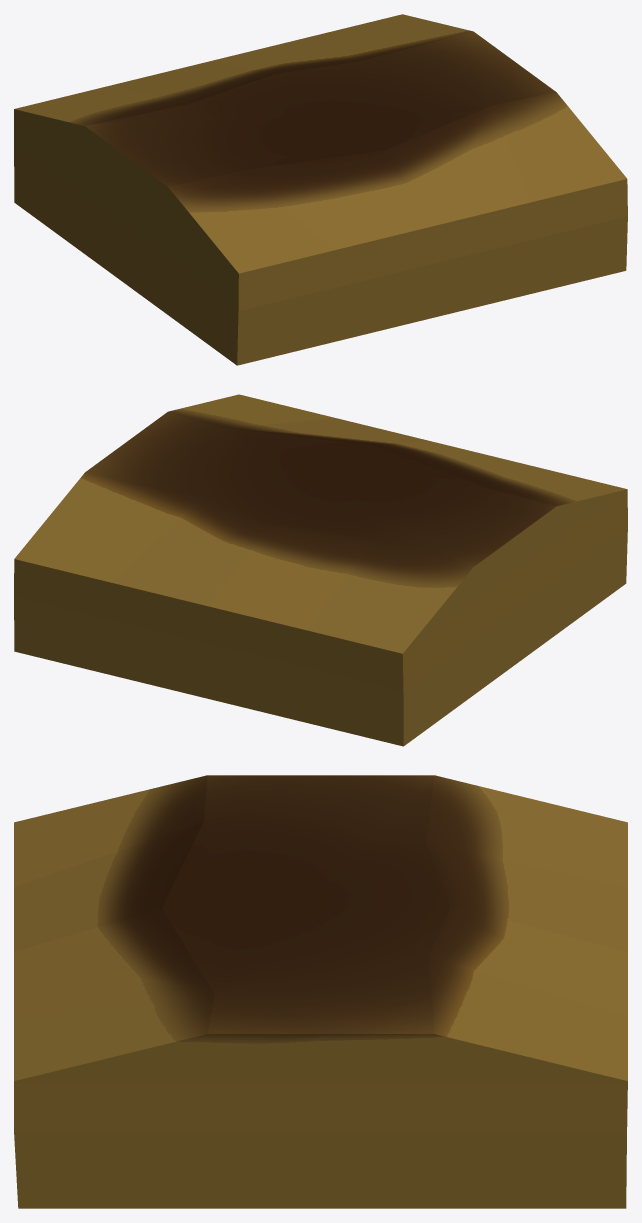
File: buried_water_bed3.fbx
3 renders of one model, top to bottom at view 1: azimuth 30°, elevation 25°; view 2: azimuth 150°, elevation 25°; view 3: azimuth 270°, elevation 25°, orthographic. The views are drawn at different scales.
Parts seen in each view (by area): view 1: Куб.024; view 2: Куб.024; view 3: Куб.024.
Boxes of the visible parts, x1,y1,x2,y2 form: Куб.024: [14, 14, 627, 365]; Куб.024: [14, 394, 627, 746]; Куб.024: [14, 775, 627, 1208].
Size of the model in its own units: 70 by 21.96 by 70.
